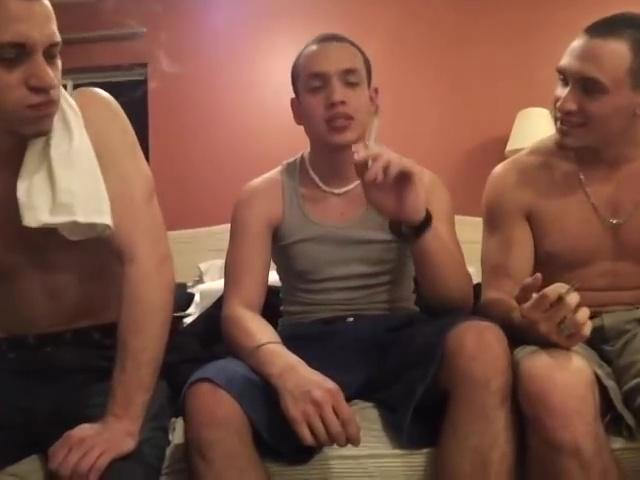cigarette: (556, 278, 583, 304), (366, 114, 380, 151)
